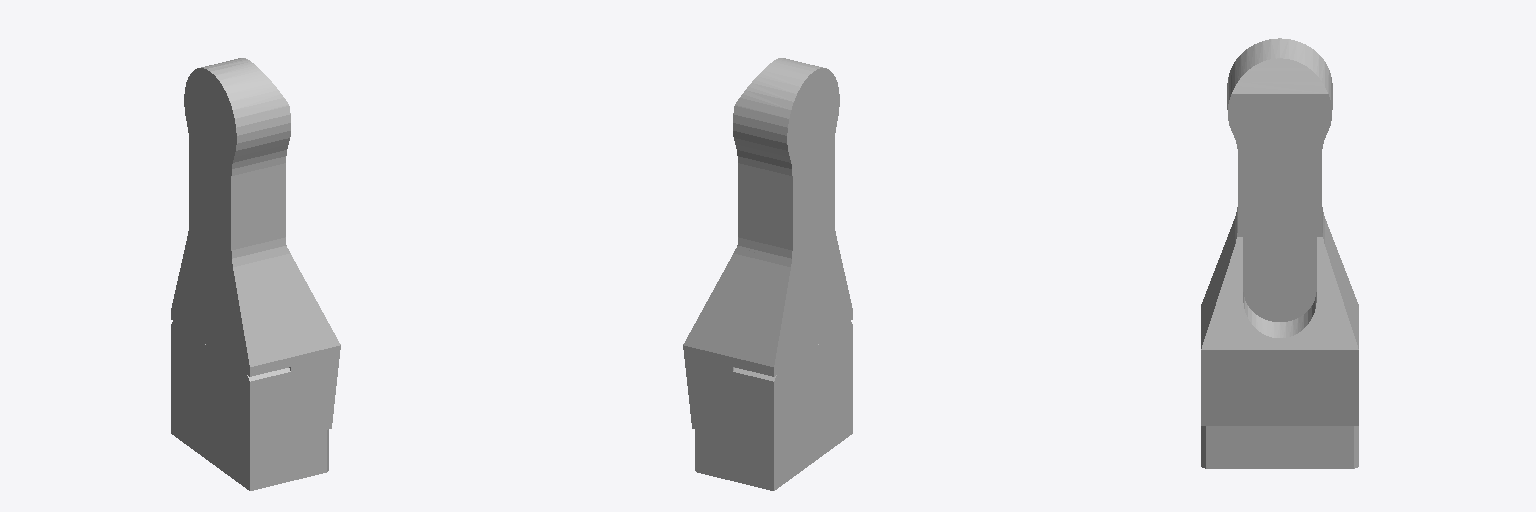
Rendered from finger_without_tip.obj.
3 renders of one model, left to right at view 1: azimuth 30°, elevation 25°; view 2: azimuth 150°, elevation 25°; view 3: azimuth 270°, elevation 25°, orthographic.
Size of the model in its own units: 0.02 by 0.082 by 0.03.